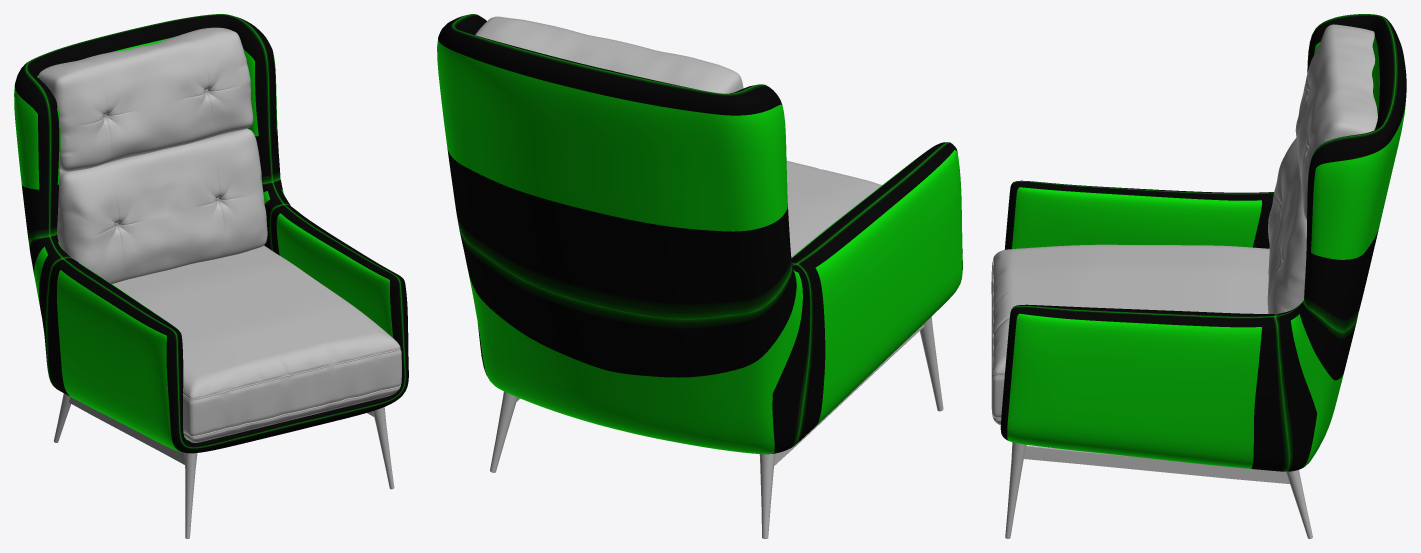
The model's file is Chair5.fbx.
The picture shows the model from 3 angles, left to right: view 1: azimuth 30°, elevation 25°; view 2: azimuth 150°, elevation 25°; view 3: azimuth 270°, elevation 25°; orthographic projection. The views are drawn at different scales.
Visible parts, largest first — view 1: Chair_pillow, Chair_body, chair_leg_parts; view 2: Chair_body, Chair_pillow, chair_leg_parts; view 3: Chair_body, Chair_pillow, chair_leg_parts.
Part boxes in pixels (bbox=[...]): Chair_pillow: bbox=[38, 27, 401, 442]; Chair_body: bbox=[14, 14, 408, 453]; chair_leg_parts: bbox=[54, 393, 394, 538]; Chair_body: bbox=[437, 14, 962, 454]; Chair_pillow: bbox=[475, 16, 881, 257]; chair_leg_parts: bbox=[490, 317, 943, 538]; Chair_body: bbox=[1000, 14, 1406, 471]; Chair_pillow: bbox=[991, 24, 1377, 425]; chair_leg_parts: bbox=[1005, 442, 1312, 538].
Bounding box in the file's own units: 79.07 × 108 × 99.06.
